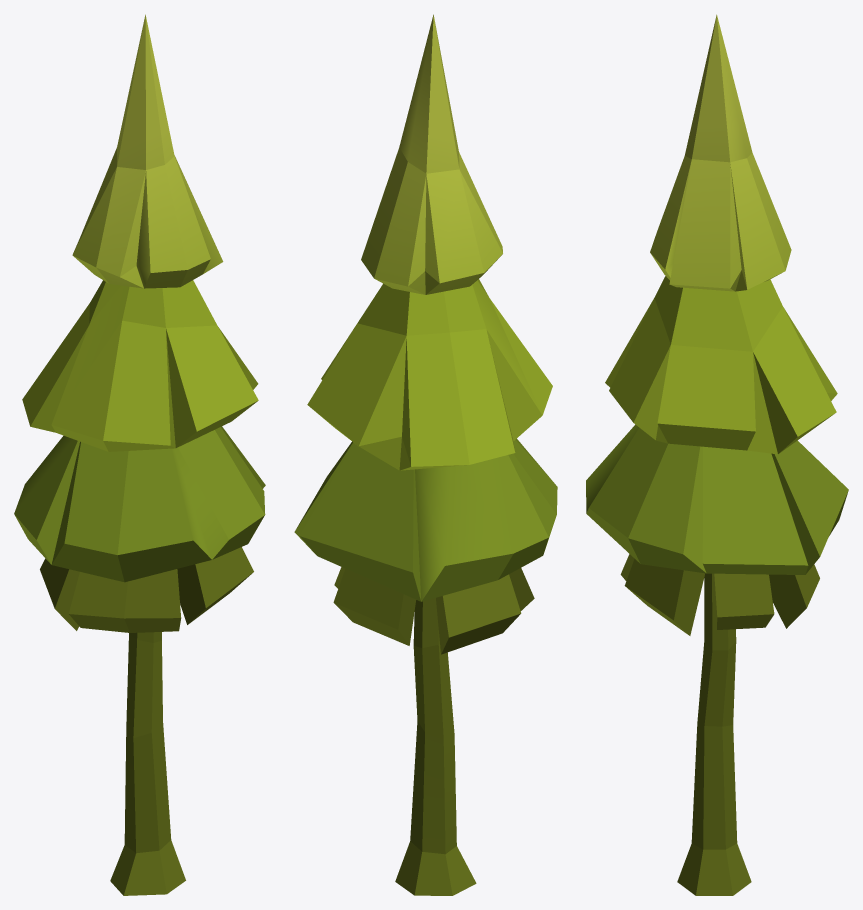
File: tree_forest3.fbx
3 renders of one model, left to right at view 1: azimuth 30°, elevation 25°; view 2: azimuth 150°, elevation 25°; view 3: azimuth 270°, elevation 25°, orthographic.
Parts seen in each view (by area): view 1: tree_forest3; view 2: tree_forest3; view 3: tree_forest3.
Boxes of the visible parts, left/top/right/bottom form: tree_forest3: left=14, top=14, right=265, bottom=895; tree_forest3: left=294, top=14, right=557, bottom=895; tree_forest3: left=586, top=14, right=848, bottom=895.
Size of the model in its own units: 106 by 389 by 107.
